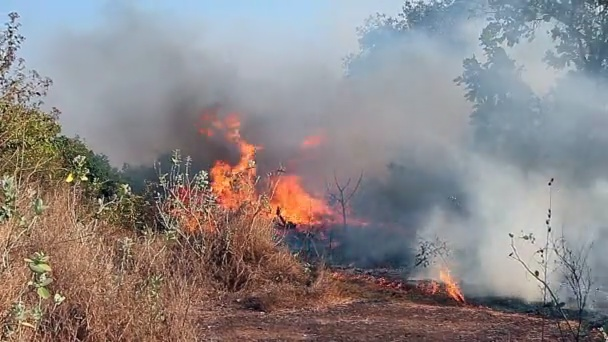fire: (443, 271, 462, 303), (64, 171, 72, 181)
